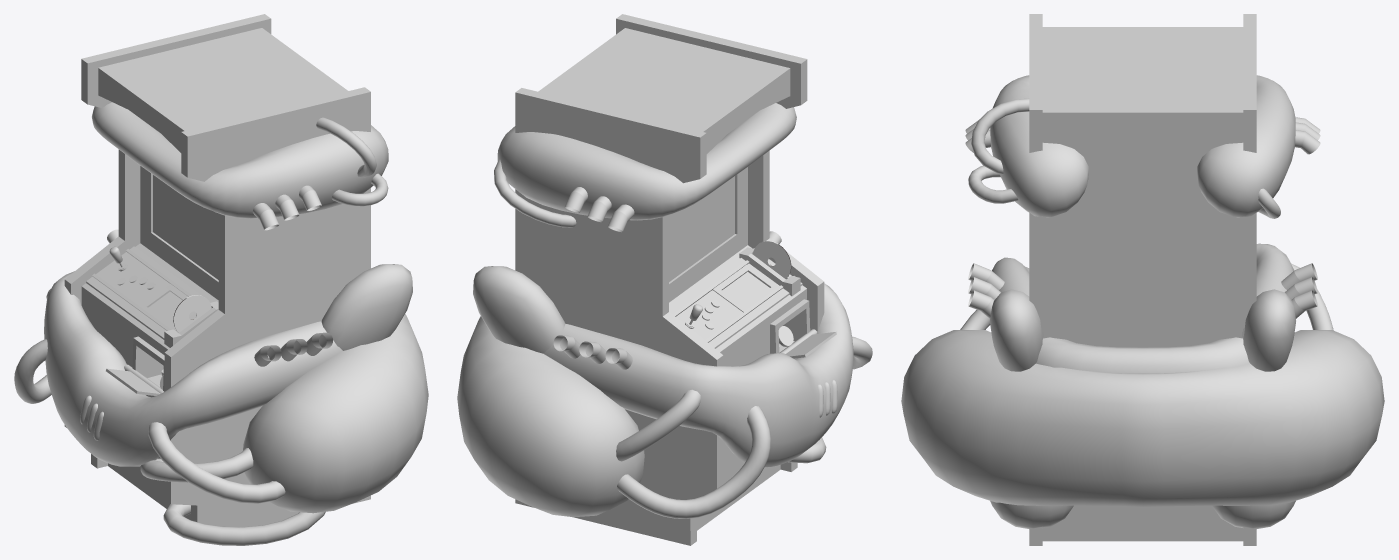
Rendered from 筹码机.fbx.
3 views of the same model, side by side, from view 1: azimuth 30°, elevation 25°; view 2: azimuth 150°, elevation 25°; view 3: azimuth 270°, elevation 25° (orthographic). The views are drawn at different scales.
Visible parts, largest first — view 1: Cube.014, Cube.013, Cube.018, Cube.019, Cube.017, Cube.022, BézierCurve.007, Plane.006, BézierCurve.005, Cube.015, BézierCurve.006, BézierCurve.008 (+10 smaller); view 2: Cube.014, Cube.013, Cube.018, Cube.019, Cube.017, Cube.022, BézierCurve.008, Plane.006, Cube.015, BézierCurve.009, BézierCurve.012, Cube.020 (+7 smaller); view 3: Cube.018, Cube.013, Cube.017, Cube.019, Cube.014, Cube.022, Cube.023, BézierCurve.010, BézierCurve.011, Cylinder.023, Cylinder.020, Cylinder.022 (+2 smaller).
Boxes of the visible parts, box(x1,y1,x2,y2) form: Cube.014: box(64, 14, 370, 527); Cube.013: box(81, 28, 347, 520); Cube.018: box(243, 314, 428, 513); Cube.019: box(44, 271, 342, 466); Cube.017: box(92, 102, 388, 218); Cube.022: box(321, 264, 412, 350); BézierCurve.007: box(163, 504, 325, 545); Plane.006: box(86, 246, 210, 339); BézierCurve.005: box(148, 422, 285, 503); Cube.015: box(140, 166, 218, 299); BézierCurve.006: box(140, 448, 253, 482); BézierCurve.008: box(14, 339, 51, 403); Cube.014: box(515, 14, 824, 545); Cube.013: box(538, 28, 806, 530); Cube.018: box(457, 316, 644, 517); Cube.019: box(543, 283, 853, 467); Cube.017: box(497, 103, 796, 220); Cube.022: box(473, 266, 565, 353); BézierCurve.008: box(617, 406, 770, 518); Plane.006: box(669, 248, 802, 348); Cube.015: box(669, 167, 747, 302); BézierCurve.009: box(616, 389, 700, 461); BézierCurve.012: box(494, 158, 576, 227); Cube.020: box(770, 299, 810, 353); Cube.018: box(901, 330, 1384, 506); Cube.013: box(1042, 27, 1243, 541); Cube.017: box(990, 75, 1295, 217); Cube.019: box(992, 243, 1293, 373); Cube.014: box(1029, 14, 1256, 545); Cube.022: box(990, 289, 1295, 371); Cube.023: box(990, 501, 1295, 528); BézierCurve.010: box(971, 98, 1029, 174); BézierCurve.011: box(968, 165, 1018, 203); Cylinder.023: box(968, 263, 1317, 289); Cylinder.020: box(968, 290, 1317, 318); Cylinder.022: box(968, 277, 1317, 299).
Bounding box in the file's own units: 355 × 430 × 432.
